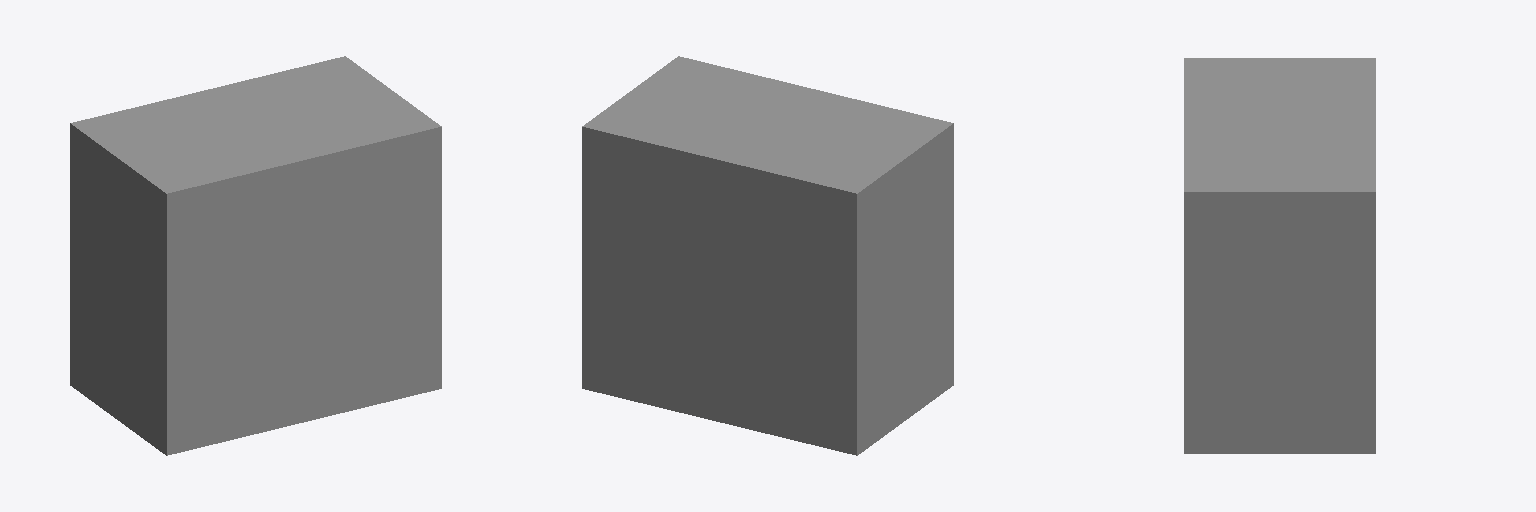
Rendered from fire.obj.
3 renders of one model, left to right at view 1: azimuth 30°, elevation 25°; view 2: azimuth 150°, elevation 25°; view 3: azimuth 270°, elevation 25°, orthographic.
Visible parts, largest first — view 1: Smoke_Domain_Cube.001; view 2: Smoke_Domain_Cube.001; view 3: Smoke_Domain_Cube.001.
Boxes of the visible parts, box(x1,y1,x2,y2) form: Smoke_Domain_Cube.001: box(70, 56, 441, 455); Smoke_Domain_Cube.001: box(582, 56, 953, 455); Smoke_Domain_Cube.001: box(1184, 58, 1375, 453).
Bounding box in the file's own units: 43.83 × 39.88 × 26.59.